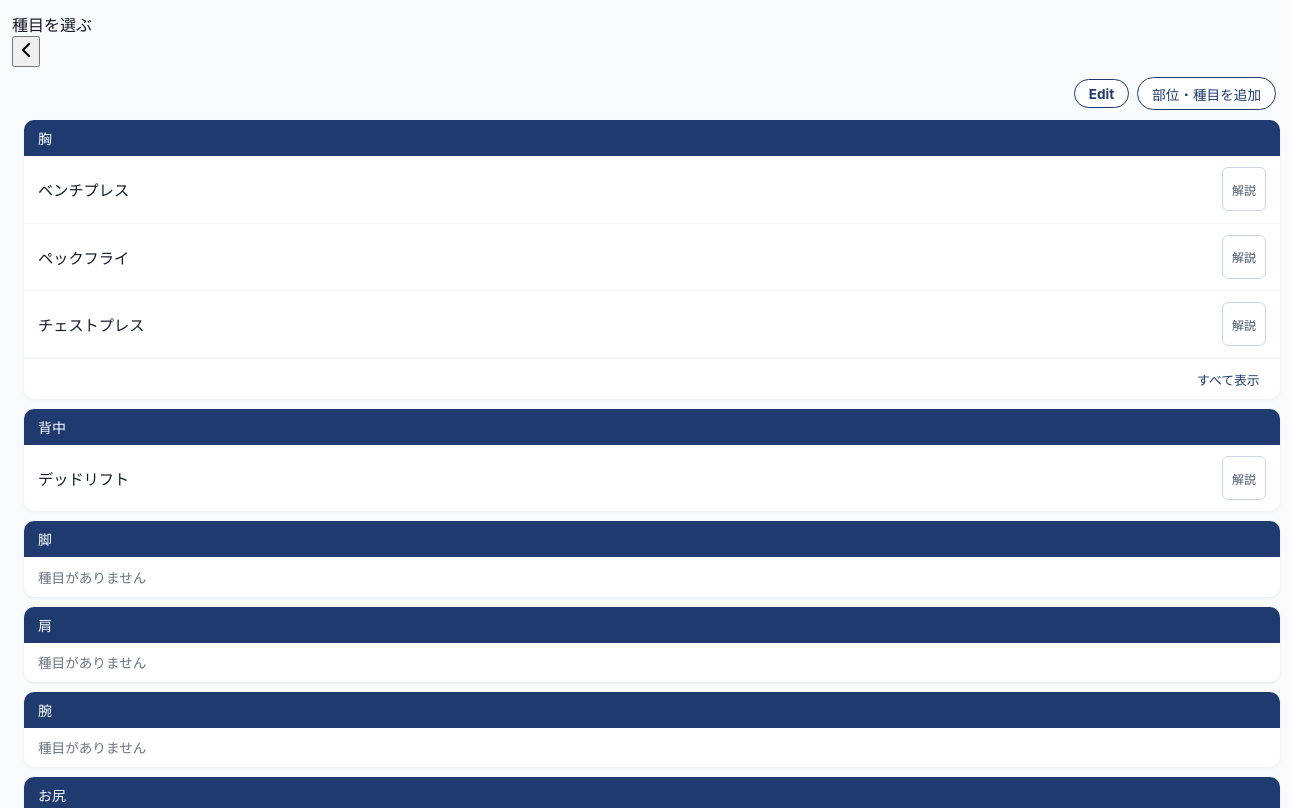
it: ExerciseSelectPage › 「すべて表示」クリック後に「閉じる」ボタンが表示される
The image size is (1292, 808).
What coordinates should you click on to do the following:
click the button "すべて表示"
I would click on:
 (1228, 379)
Its box is top-left (1191, 366), bottom-right (1266, 392).
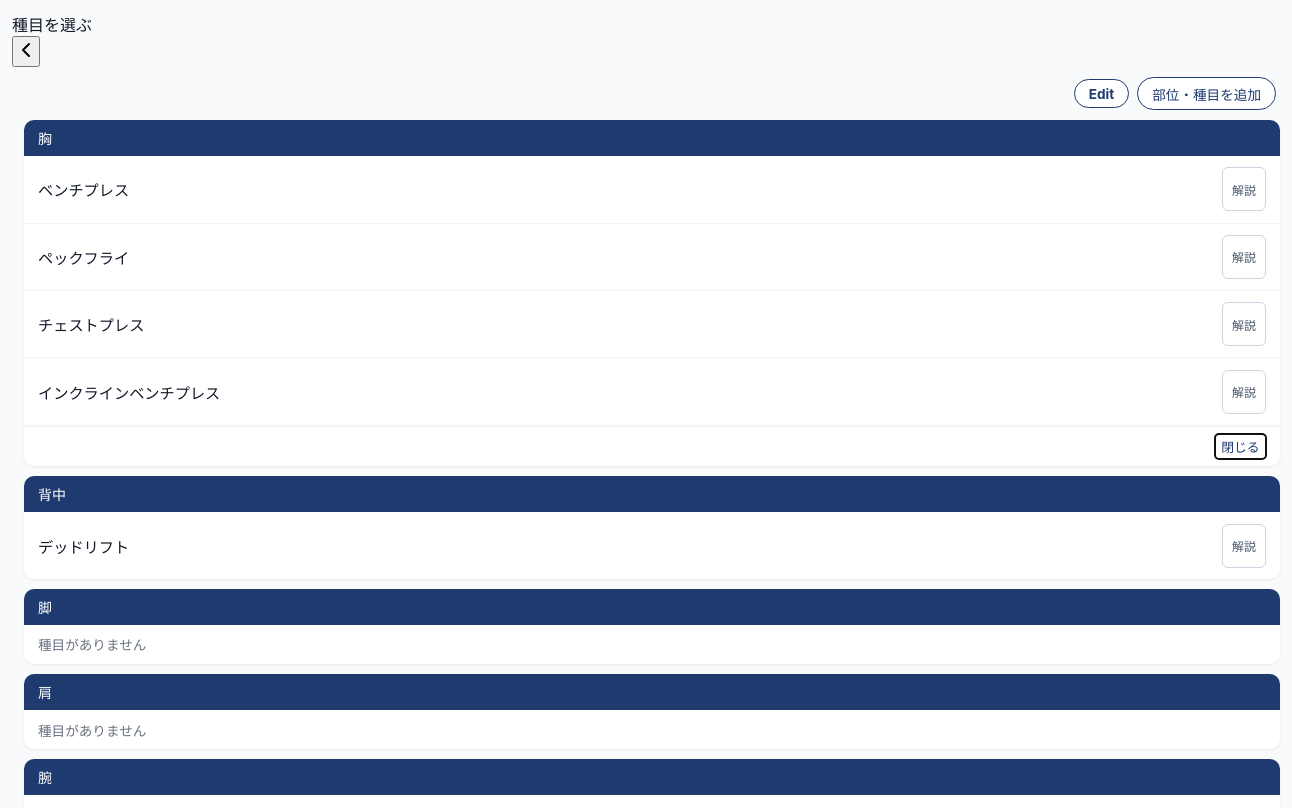
Now the button "閉じる" is shown, box top-left (1215, 434), bottom-right (1266, 459)
